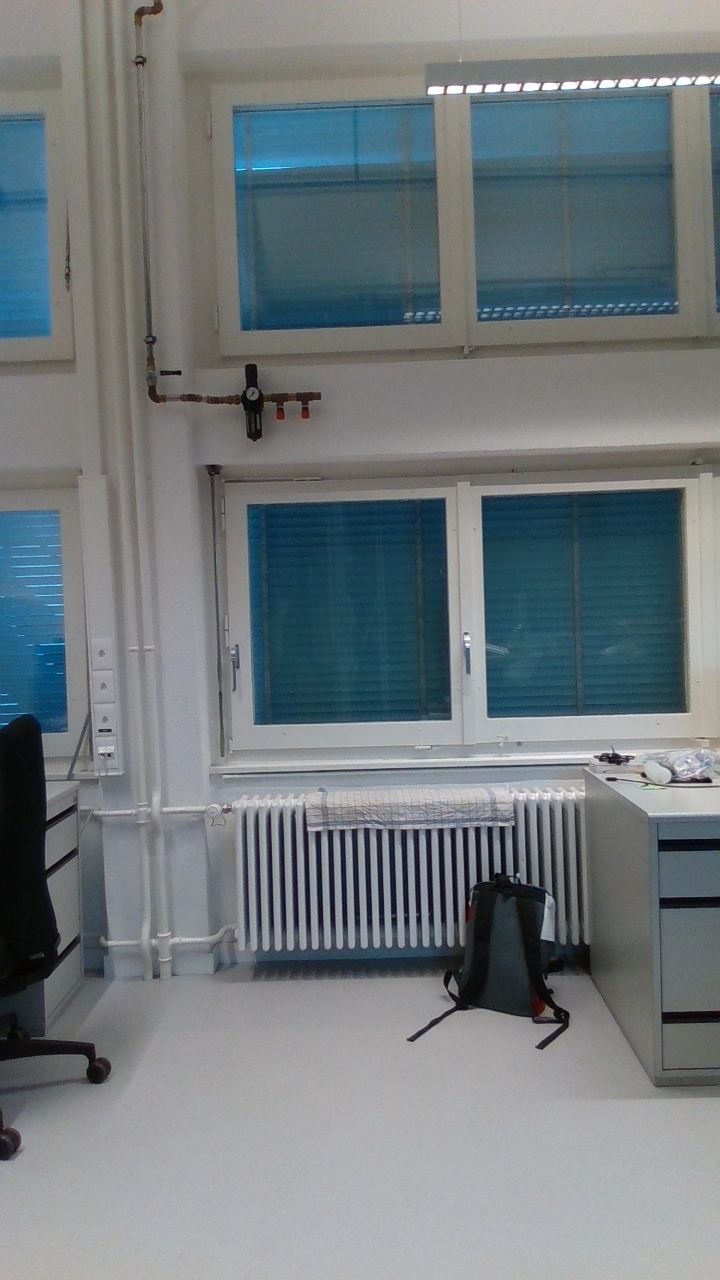Knob_Radiator: (200, 800, 230, 826)
Radiator: (228, 780, 581, 955)
